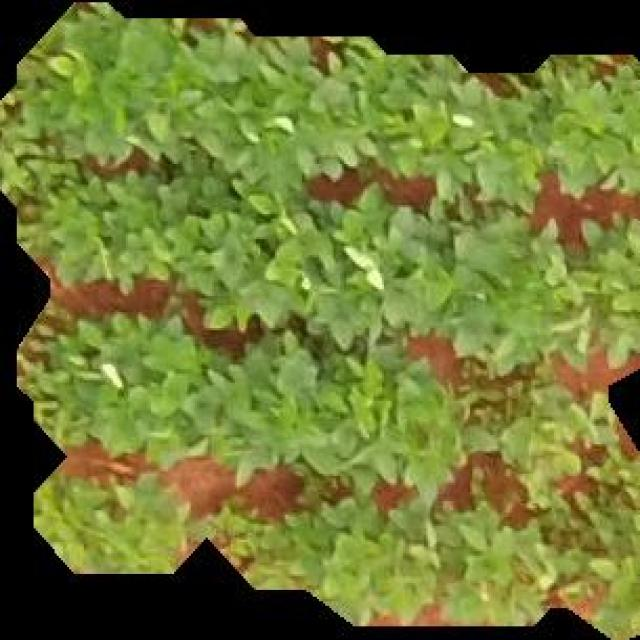Soybean: (1, 2, 640, 640)
